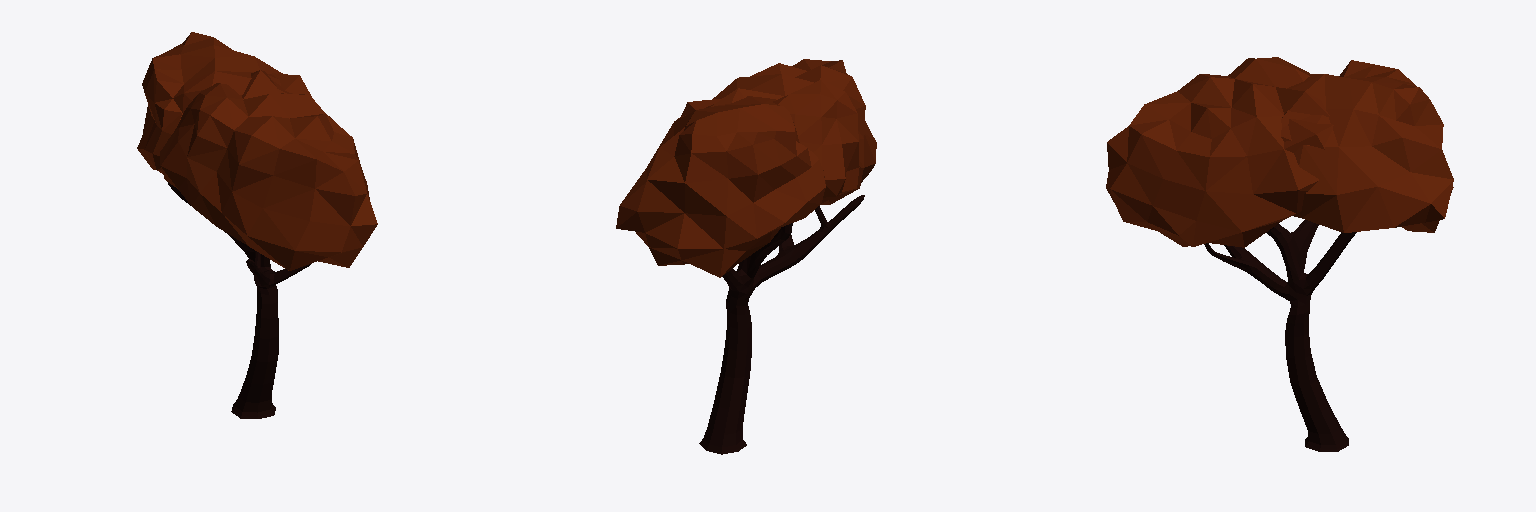
The model's file is CommonTree_Autumn_5_Cube.obj.
3 views of the same model, side by side, from view 1: azimuth 30°, elevation 25°; view 2: azimuth 150°, elevation 25°; view 3: azimuth 270°, elevation 25° (orthographic).
Visible parts, largest first — view 1: CommonTree_Autumn_5_Cube.139; view 2: CommonTree_Autumn_5_Cube.139; view 3: CommonTree_Autumn_5_Cube.139.
Boxes of the visible parts, x1=… form: CommonTree_Autumn_5_Cube.139: x1=137, y1=32, x2=377, y2=418; CommonTree_Autumn_5_Cube.139: x1=616, y1=59, x2=876, y2=454; CommonTree_Autumn_5_Cube.139: x1=1106, y1=57, x2=1453, y2=451.
Bounding box in the file's own units: 1.29 × 2.53 × 2.25.